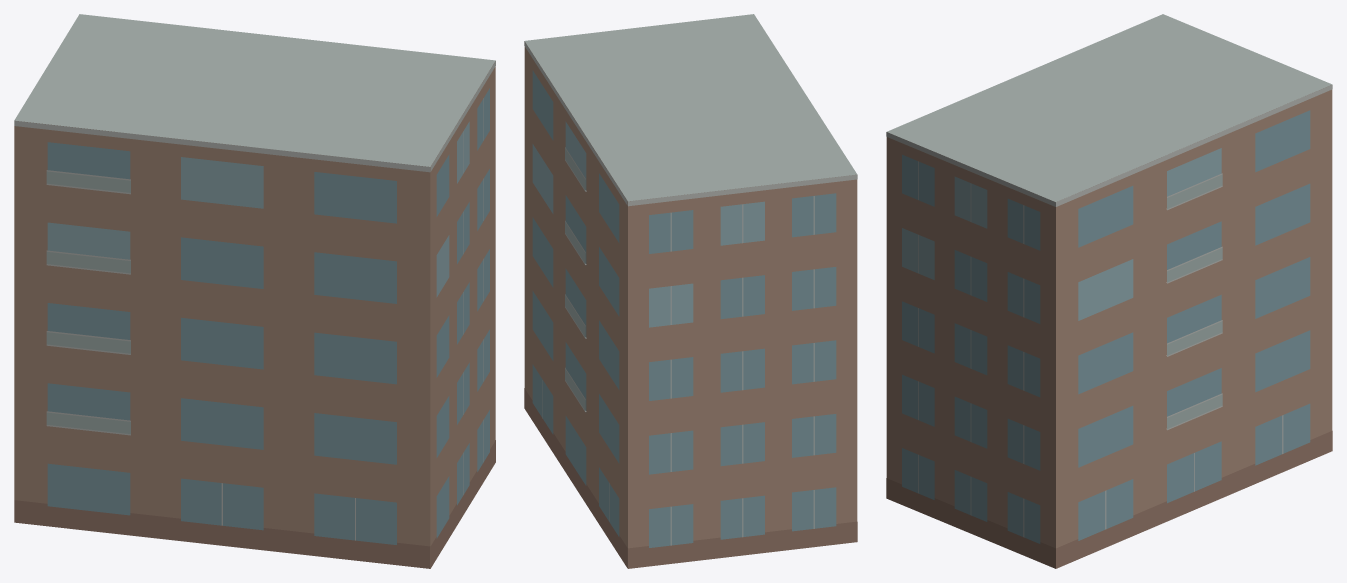
File: survey-upis-32586713.glb
3 views of the same model, side by side, from view 1: azimuth 30°, elevation 25°; view 2: azimuth 150°, elevation 25°; view 3: azimuth 270°, elevation 25° (orthographic). The views are drawn at different scales.
Visible parts, largest first — view 1: survey-upis-32586713.tmp; view 2: survey-upis-32586713.tmp; view 3: survey-upis-32586713.tmp.
Part boxes in pixels (x1=…): survey-upis-32586713.tmp: x1=14, y1=14, x2=495, y2=568; survey-upis-32586713.tmp: x1=524, y1=14, x2=857, y2=568; survey-upis-32586713.tmp: x1=886, y1=14, x2=1332, y2=568.
Size of the model in its own units: 20.05 by 18.2 by 20.07.
